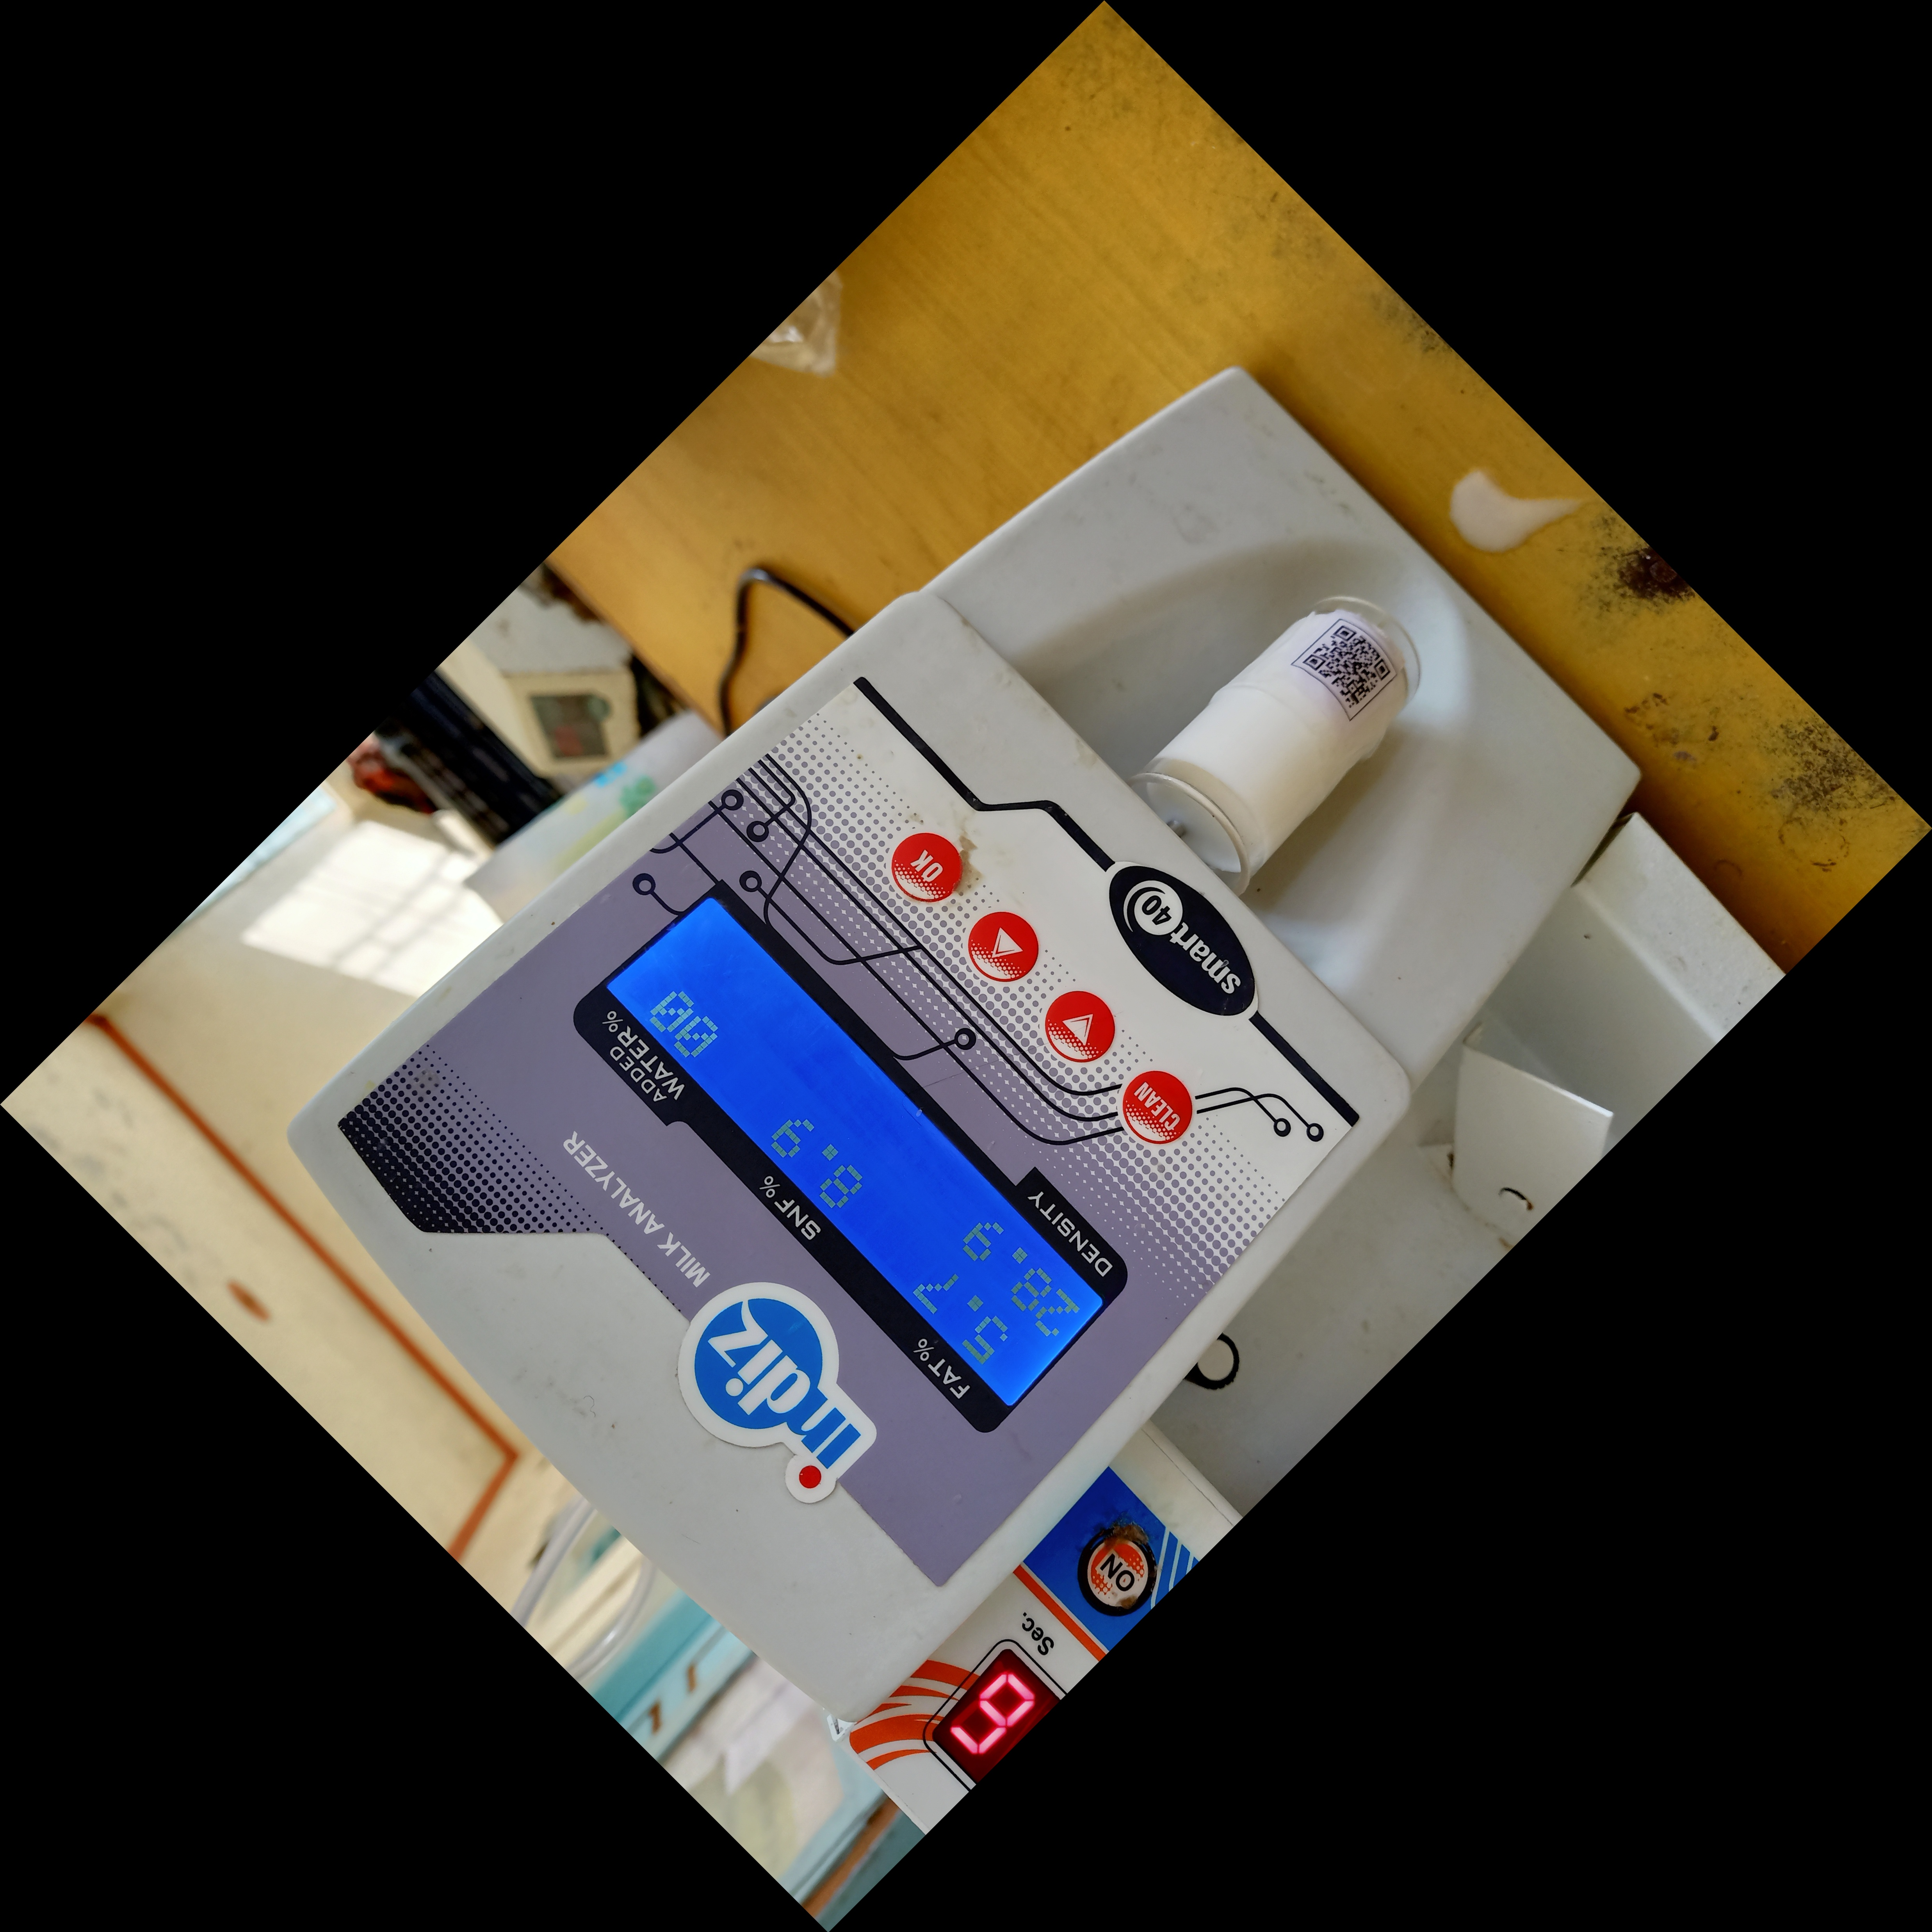lcd: (556, 863, 1145, 1453)
qr: (1288, 591, 1412, 738)
